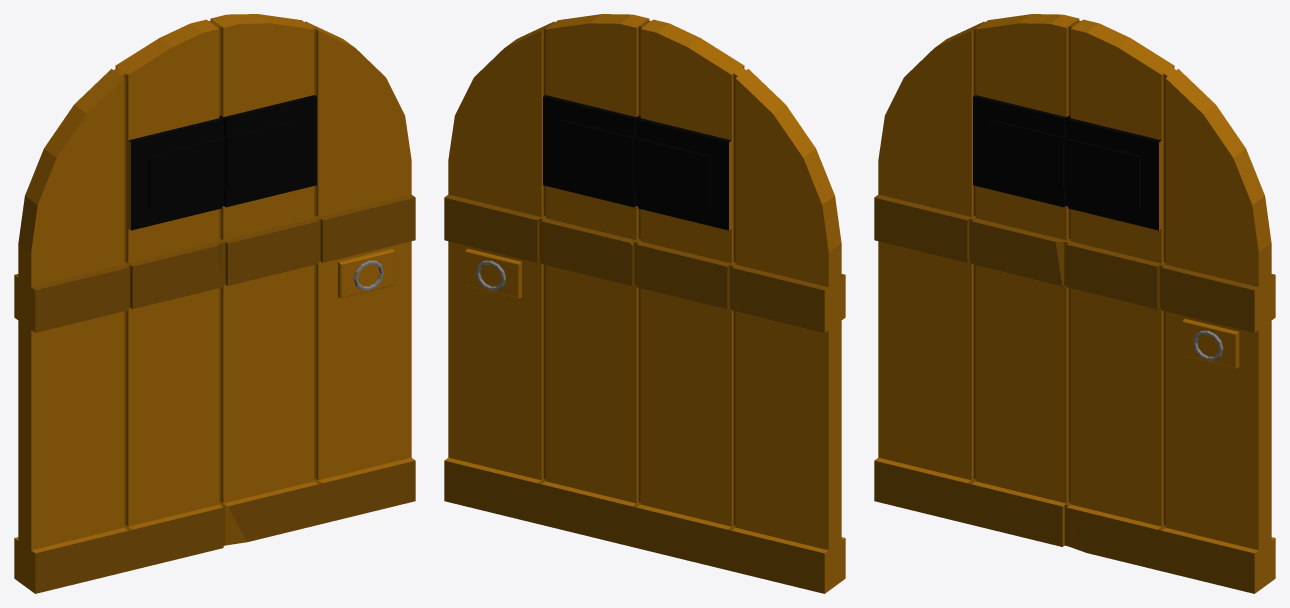
Rendered from Door_01.fbx.
3 renders of one model, left to right at view 1: azimuth 30°, elevation 25°; view 2: azimuth 150°, elevation 25°; view 3: azimuth 330°, elevation 25°, orthographic.
Parts seen in each view (by area): view 1: Door_01; view 2: Door_01; view 3: Door_01.
Boxes of the visible parts, <box> form: Door_01: <box>14,14,415,593</box>; Door_01: <box>444,14,845,593</box>; Door_01: <box>874,14,1275,593</box>.
Size of the model in its own units: 157 by 203 by 16.16.
